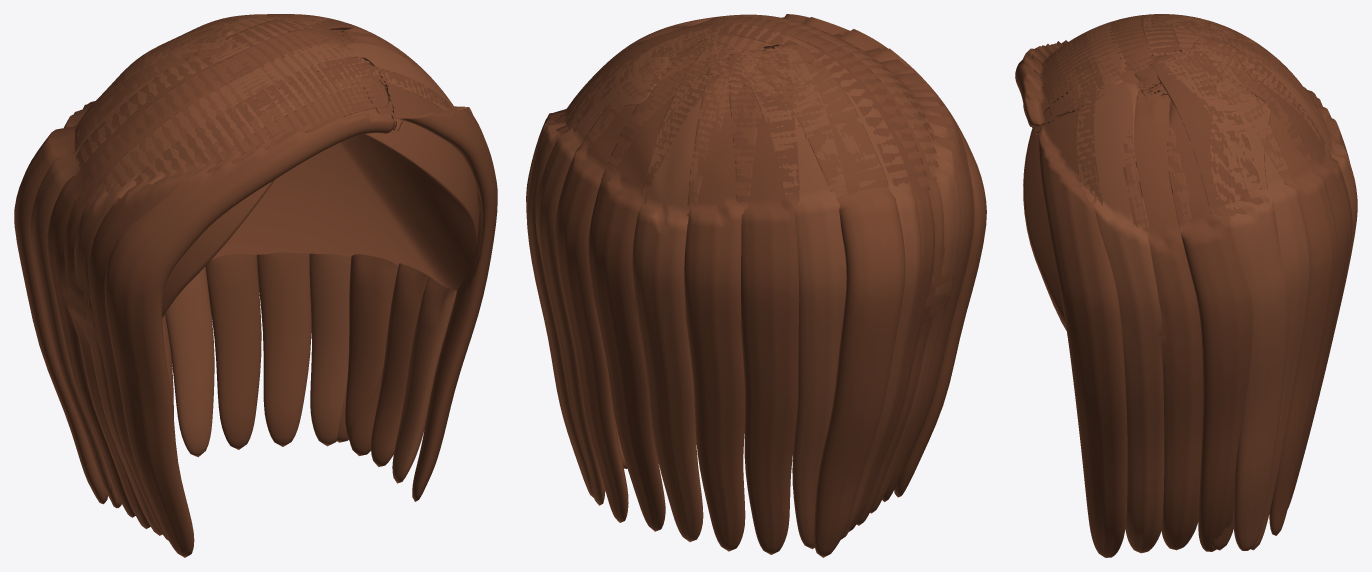
File: Feminine-straight-headband251-hair.glb
The picture shows the model from 3 angles, left to right: view 1: azimuth 30°, elevation 25°; view 2: azimuth 150°, elevation 25°; view 3: azimuth 270°, elevation 25°; orthographic projection. The views are drawn at different scales.
Visible parts, largest first — view 1: 226 hair / Hair / sculpted 0.004, 226 hair / Hair / sculpted 1.008, 226 hair / Hair / sculpted 2.004, 226 hair / Hair / sculpted 1.007; view 2: 226 hair / Hair / sculpted 0.004, 226 hair / Hair / sculpted 2.004, 226 hair / Hair / sculpted 1.008; view 3: 226 hair / Hair / sculpted 1.008, 226 hair / Hair / sculpted 2.004, 226 hair / Hair / sculpted 0.004, 226 hair / Hair / sculpted 1.007.
Part boxes in pixels (x1,y1,x2,y2): 226 hair / Hair / sculpted 0.004: (14,14,437,557); 226 hair / Hair / sculpted 1.008: (47,14,497,540); 226 hair / Hair / sculpted 2.004: (30,14,480,535); 226 hair / Hair / sculpted 1.007: (162,120,478,318); 226 hair / Hair / sculpted 0.004: (555,14,986,557); 226 hair / Hair / sculpted 2.004: (526,14,960,549); 226 hair / Hair / sculpted 1.008: (526,14,974,554); 226 hair / Hair / sculpted 1.008: (1031,14,1352,557); 226 hair / Hair / sculpted 2.004: (1056,14,1357,553); 226 hair / Hair / sculpted 0.004: (1015,14,1349,550); 226 hair / Hair / sculpted 1.007: (1023,104,1066,330).
Bounding box in the file's own units: 1.02 × 1.17 × 0.7803.
